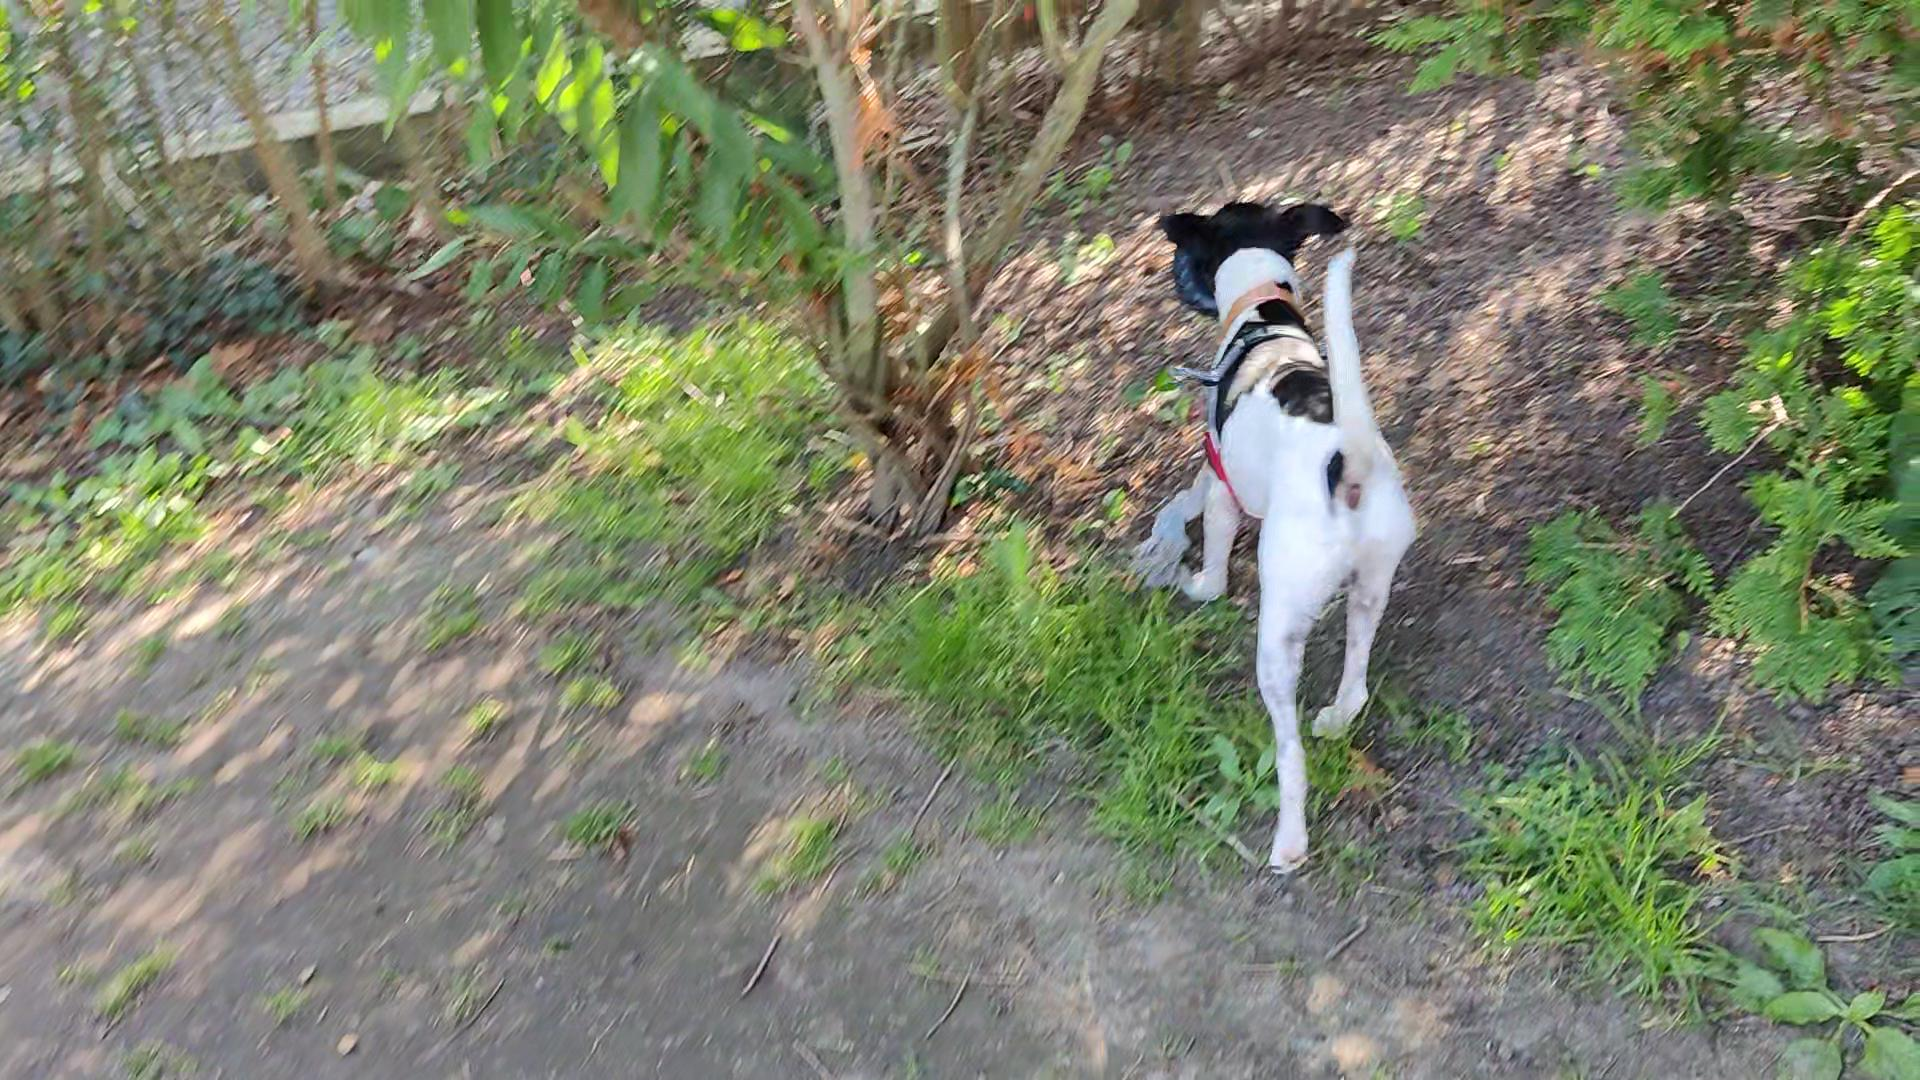Dog: (1124, 186, 1433, 886)
